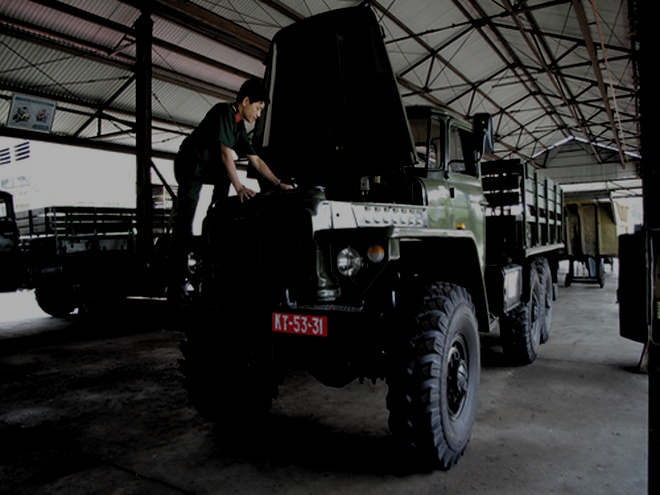plate: (268, 306, 330, 343)
